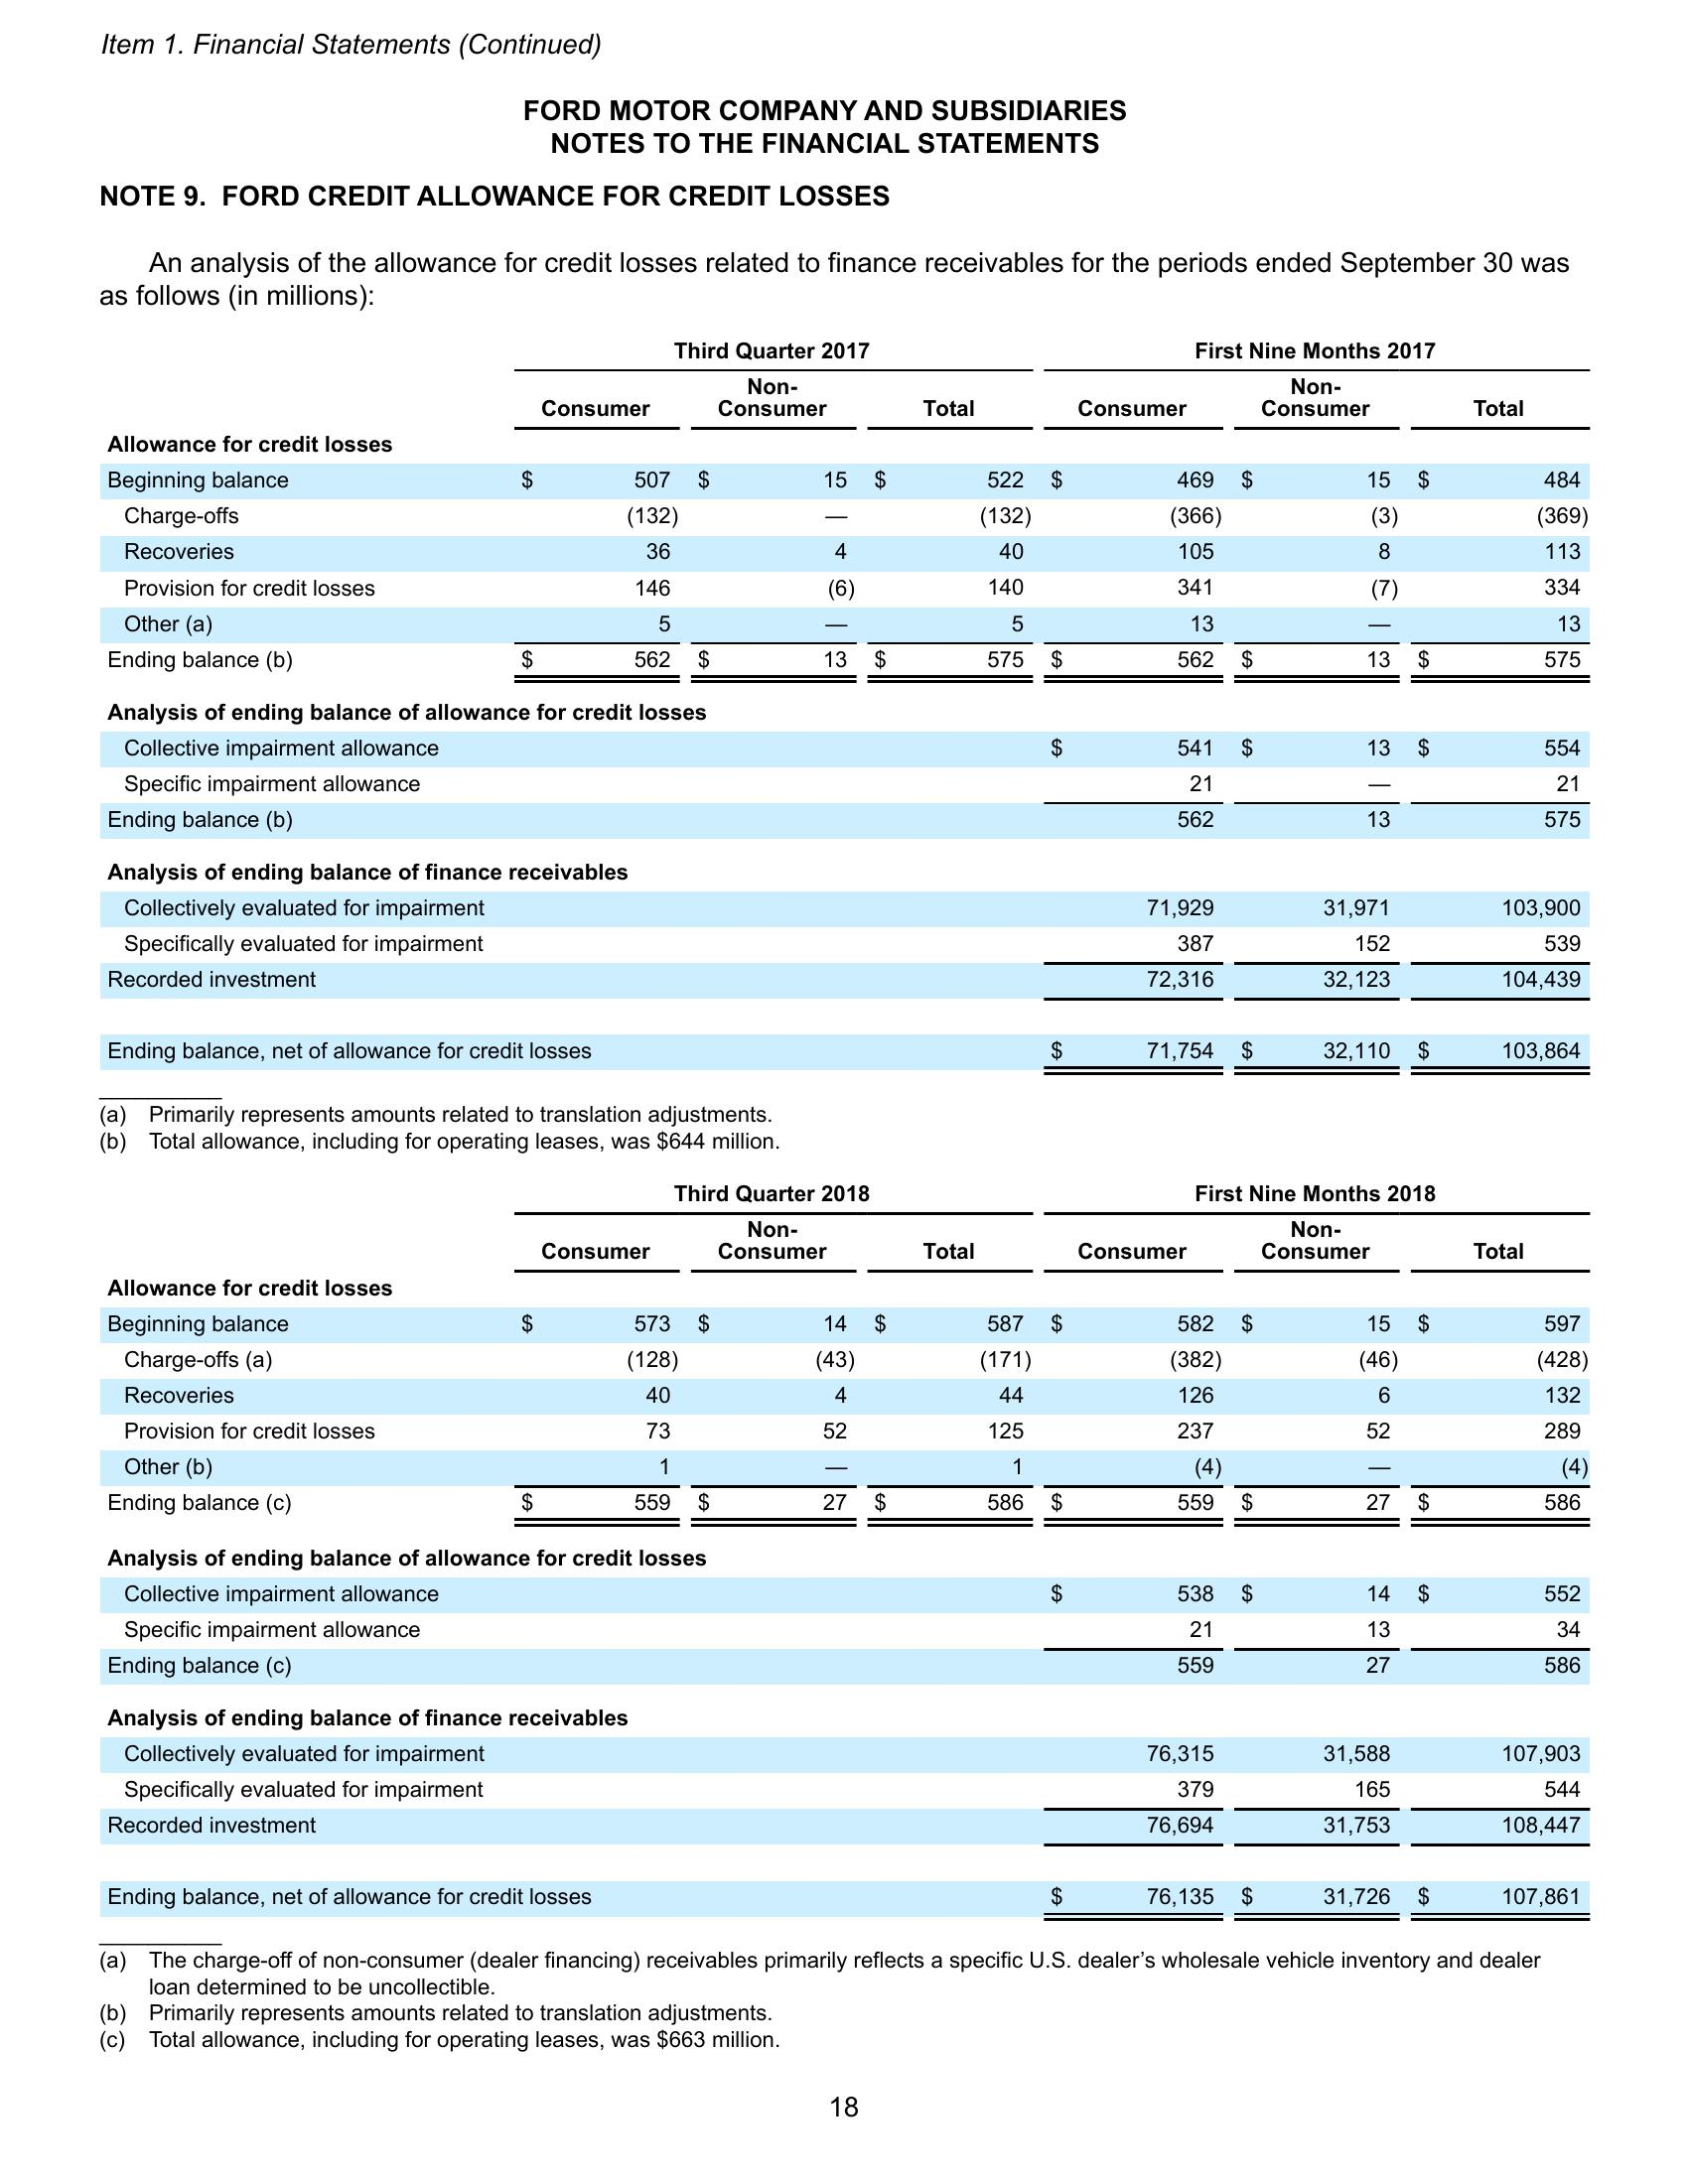table: (96, 1172, 1594, 1929), (98, 330, 1599, 1081)
